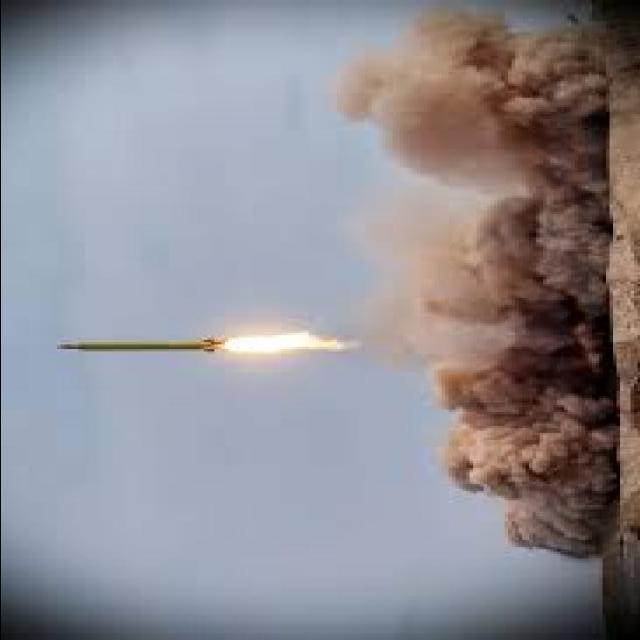Missile: (56, 337, 227, 356)
